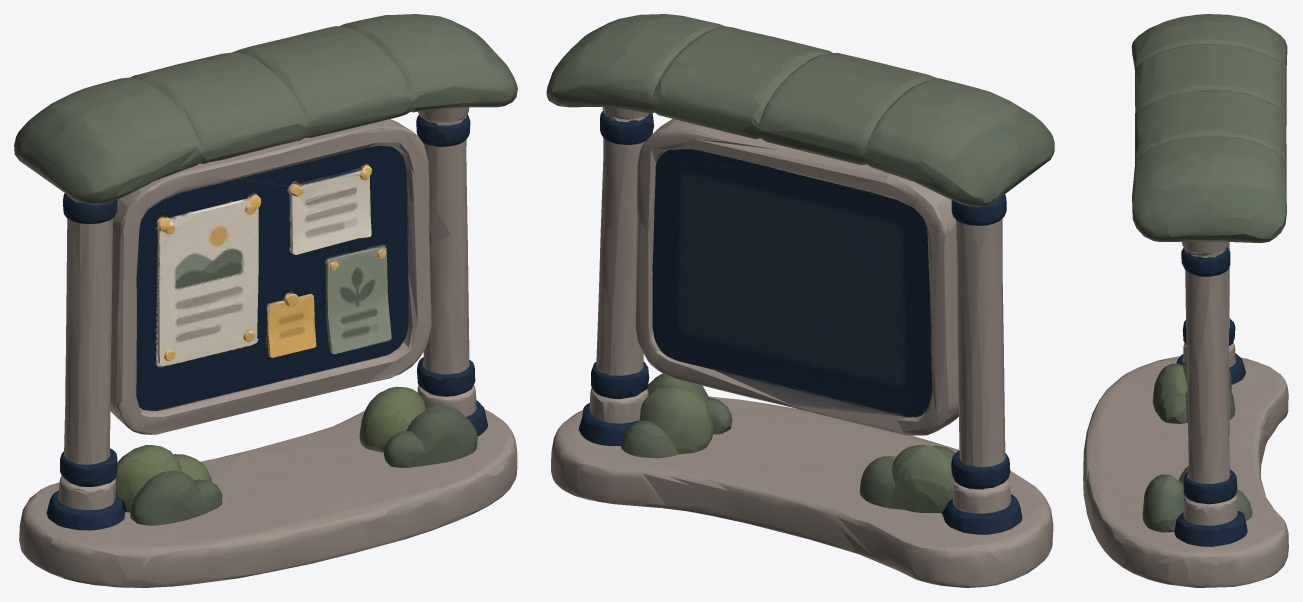
File: noticeBoard.glb
3 views of the same model, side by side, from view 1: azimuth 30°, elevation 25°; view 2: azimuth 150°, elevation 25°; view 3: azimuth 270°, elevation 25° (orthographic). The views are drawn at different scales.
Parts seen in each view (by area): view 1: Mesh_0; view 2: Mesh_0; view 3: Mesh_0.
Part boxes in pixels (x1=…): Mesh_0: x1=14, y1=14, x2=517, y2=587; Mesh_0: x1=546, y1=14, x2=1054, y2=587; Mesh_0: x1=1083, y1=14, x2=1288, y2=587.
Size of the model in its own units: 1.2 by 1.09 by 0.5085.
1 material, 1 textured.
